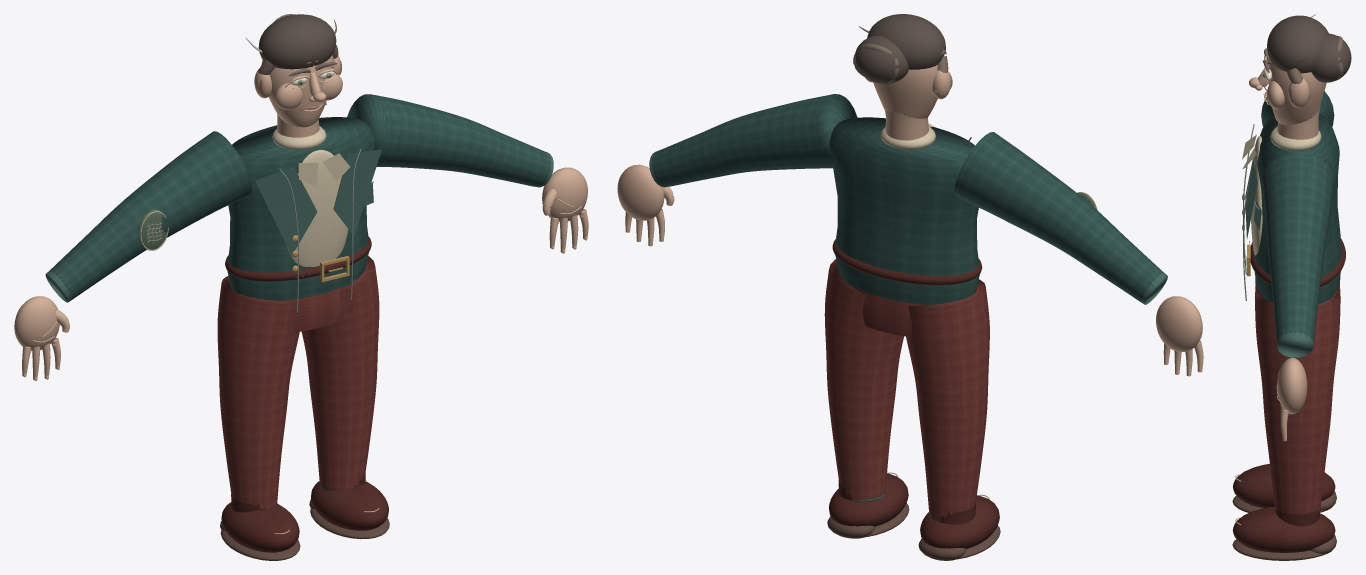
3 views of the same model, side by side, from view 1: azimuth 30°, elevation 25°; view 2: azimuth 150°, elevation 25°; view 3: azimuth 270°, elevation 25° (orthographic). The views are drawn at different scales.
Visible parts, largest first — view 1: Left tailored trouser leg, Right tailored trouser leg, Left jacket sleeve, Tailored teal jacket torso, Right jacket sleeve, Visible linen blouse front, Salt and pepper hair cap, Left leather shoe upper, Right leather shoe upper, Left open jacket facing, Right open jacket facing, Left broad palm (+9 smaller); view 2: Tailored teal jacket torso, Left tailored trouser leg, Left jacket sleeve, Right tailored trouser leg, Right jacket sleeve, Salt and pepper hair cap, Left leather shoe upper, Right leather shoe upper, Long sculpted face and skull, Left broad palm, Right broad palm, Loose gathered hair twist (+3 smaller); view 3: Right tailored trouser leg, Right jacket sleeve, Tailored teal jacket torso, Right leather shoe upper, Salt and pepper hair cap, Left leather shoe upper, Long sculpted face and skull, Right broad palm, Loose gathered hair twist, Right sleeve cuff facing, Right shoe sole, Neck (+16 smaller).
Boxes of the visible parts, x1=… form: Left tailored trouser leg: x1=217, y1=276, x2=299, y2=508; Right tailored trouser leg: x1=301, y1=256, x2=379, y2=490; Left jacket sleeve: x1=49, y1=131, x2=251, y2=299; Tailored teal jacket torso: x1=227, y1=117, x2=374, y2=301; Right jacket sleeve: x1=347, y1=94, x2=550, y2=186; Visible linen blouse front: x1=287, y1=149, x2=348, y2=266; Salt and pepper hair cap: x1=258, y1=14, x2=336, y2=69; Left leather shoe upper: x1=221, y1=502, x2=299, y2=552; Right leather shoe upper: x1=311, y1=481, x2=388, y2=530; Left open jacket facing: x1=255, y1=167, x2=317, y2=255; Right open jacket facing: x1=333, y1=149, x2=381, y2=235; Left broad palm: x1=14, y1=296, x2=59, y2=350; Tailored teal jacket torso: x1=829, y1=117, x2=979, y2=305; Left tailored trouser leg: x1=906, y1=279, x2=989, y2=519; Left jacket sleeve: x1=954, y1=132, x2=1163, y2=301; Right tailored trouser leg: x1=824, y1=259, x2=904, y2=499; Right jacket sleeve: x1=652, y1=94, x2=857, y2=186; Salt and pepper hair cap: x1=867, y1=14, x2=945, y2=69; Left leather shoe upper: x1=920, y1=495, x2=999, y2=548; Right leather shoe upper: x1=829, y1=473, x2=908, y2=526; Long sculpted face and skull: x1=873, y1=65, x2=937, y2=118; Left broad palm: x1=1156, y1=296, x2=1202, y2=351; Right broad palm: x1=617, y1=164, x2=664, y2=220; Loose gathered hair twist: x1=855, y1=35, x2=908, y2=83; Right tailored trouser leg: x1=1254, y1=293, x2=1340, y2=514; Right jacket sleeve: x1=1261, y1=154, x2=1334, y2=342; Tailored teal jacket torso: x1=1254, y1=113, x2=1341, y2=303; Right leather shoe upper: x1=1232, y1=506, x2=1335, y2=552; Salt and pepper hair cap: x1=1267, y1=15, x2=1328, y2=73; Left leather shoe upper: x1=1233, y1=463, x2=1335, y2=507; Long sculpted face and skull: x1=1268, y1=60, x2=1326, y2=125; Right broad palm: x1=1277, y1=357, x2=1307, y2=414; Loose gathered hair twist: x1=1311, y1=33, x2=1351, y2=82; Right sleeve cuff facing: x1=1277, y1=330, x2=1313, y2=357; Right shoe sole: x1=1232, y1=539, x2=1325, y2=560; Neck: x1=1277, y1=106, x2=1320, y2=139.
Size of the model in its own units: 2.17 by 1.86 by 0.394.
Materials: 22 (6 with a texture image).
